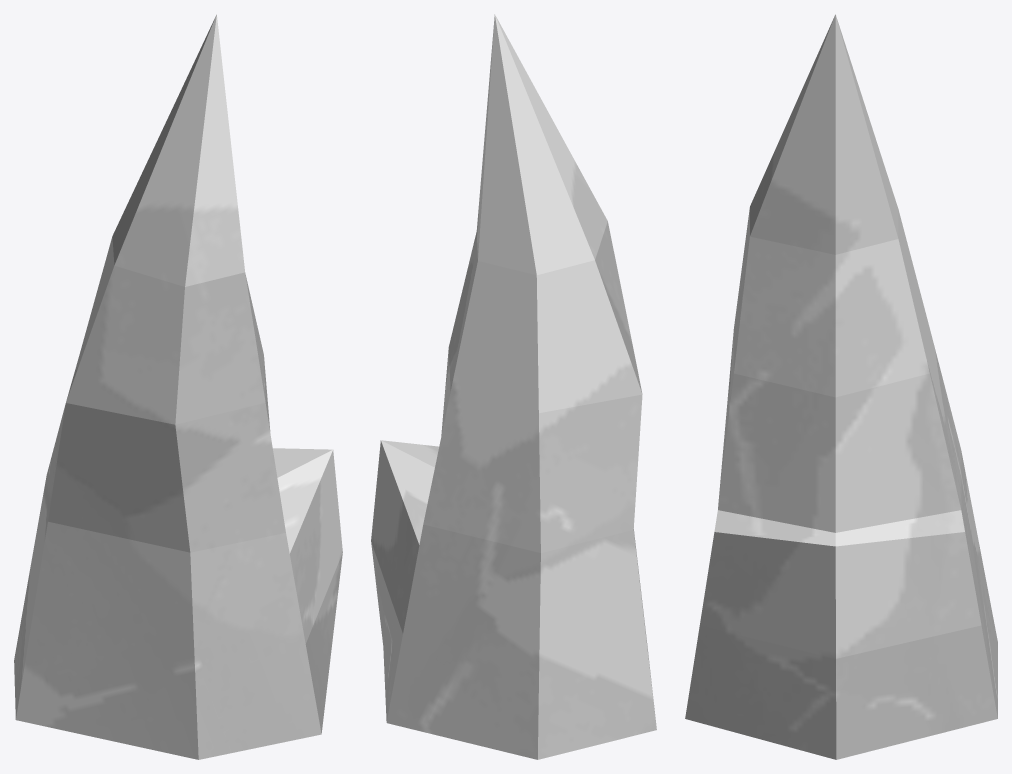
The model's file is CristalShard3.fbx.
3 views of the same model, side by side, from view 1: azimuth 30°, elevation 25°; view 2: azimuth 150°, elevation 25°; view 3: azimuth 270°, elevation 25° (orthographic). The views are drawn at different scales.
Visible parts, largest first — view 1: CristalShard3; view 2: CristalShard3; view 3: CristalShard3.
Part boxes in pixels (x1,y1,x2,y2): CristalShard3: (14, 14, 342, 759); CristalShard3: (371, 14, 656, 759); CristalShard3: (685, 14, 997, 759).
Size of the model in its own units: 163 by 340 by 140.
